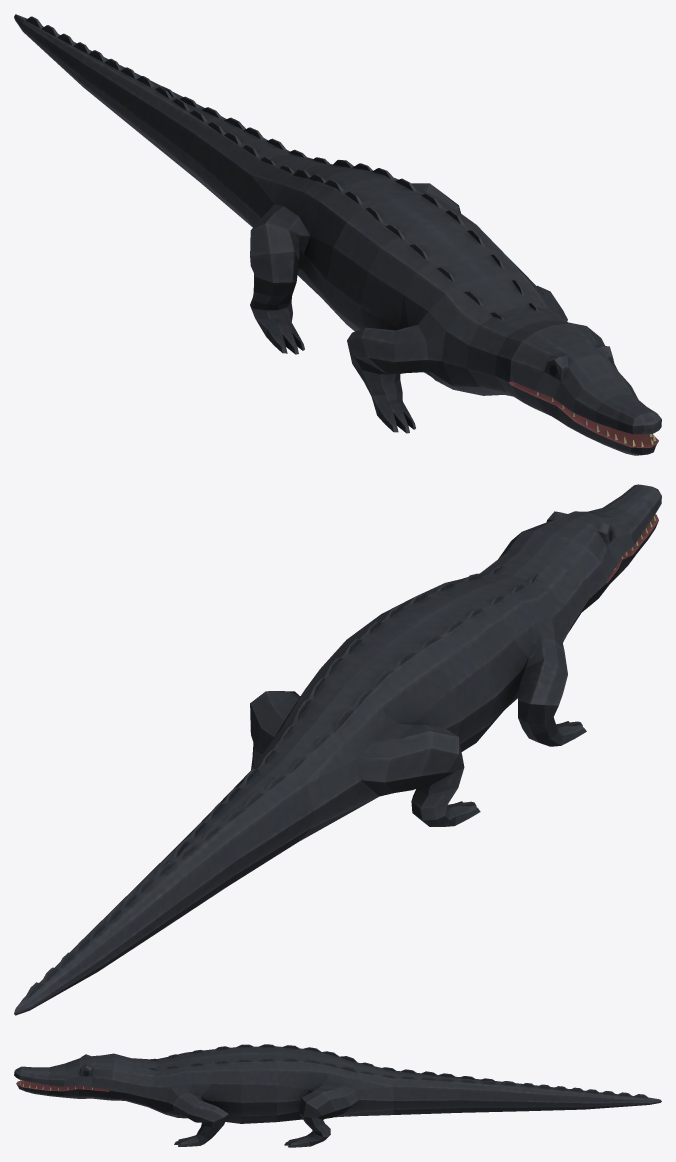
File: caiman.glb
3 renders of one model, top to bottom at view 1: azimuth 30°, elevation 25°; view 2: azimuth 150°, elevation 25°; view 3: azimuth 270°, elevation 25°, orthographic. The views are drawn at different scales.
Parts seen in each view (by area): view 1: BlackCaiman_mesh; view 2: BlackCaiman_mesh; view 3: BlackCaiman_mesh.
Boxes of the visible parts, bbox=[...] form: BlackCaiman_mesh: bbox=[14, 14, 661, 455]; BlackCaiman_mesh: bbox=[14, 484, 661, 1015]; BlackCaiman_mesh: bbox=[14, 1044, 661, 1147].
Size of the model in its own units: 3.4 by 2.19 by 17.97.
Materials: 1 (1 with a texture image).
